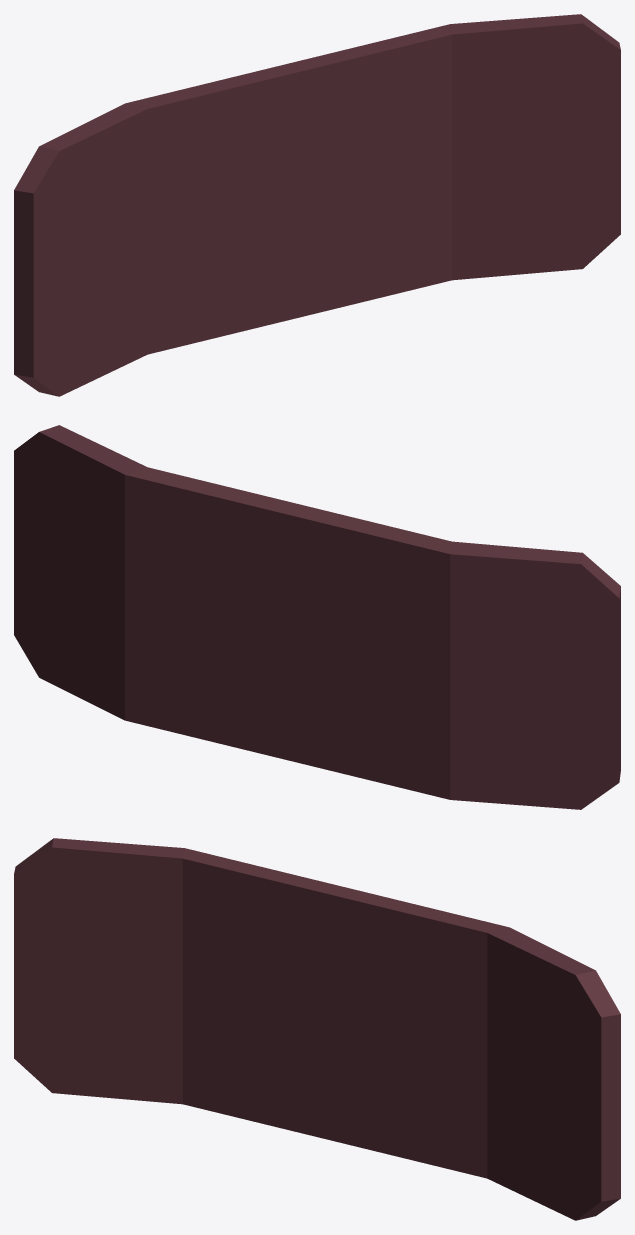
The model's file is scifi-scifi-pc.glb.
3 renders of one model, top to bottom at view 1: azimuth 30°, elevation 25°; view 2: azimuth 150°, elevation 25°; view 3: azimuth 330°, elevation 25°, orthographic.
Visible parts, largest first — view 1: scifi-pc; view 2: scifi-pc; view 3: scifi-pc.
Part boxes in pixels (x1=…): scifi-pc: x1=14, y1=14, x2=620, y2=396; scifi-pc: x1=14, y1=425, x2=620, y2=809; scifi-pc: x1=14, y1=838, x2=620, y2=1220.
Bounding box in the file's own units: 1.3 × 0.5047 × 0.1473.
